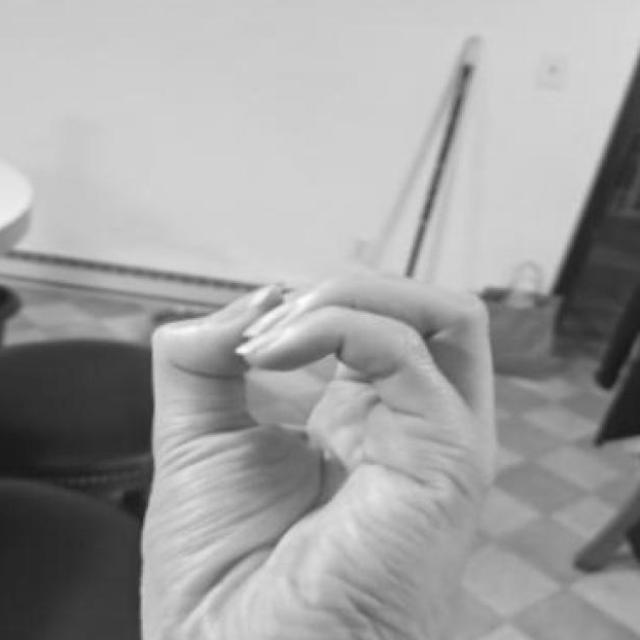O: (106, 246, 514, 640)
